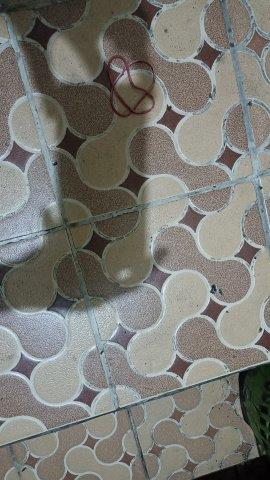karet: (107, 55, 156, 117)
